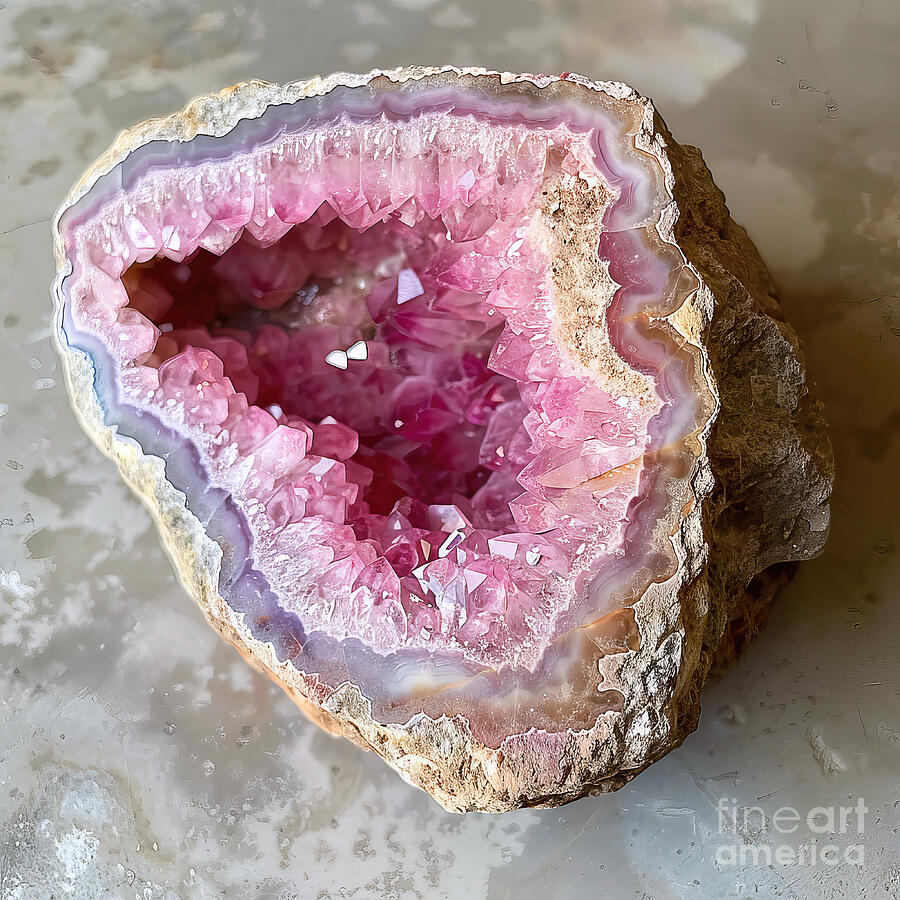Rose_Quartz: (74, 113, 699, 672)
